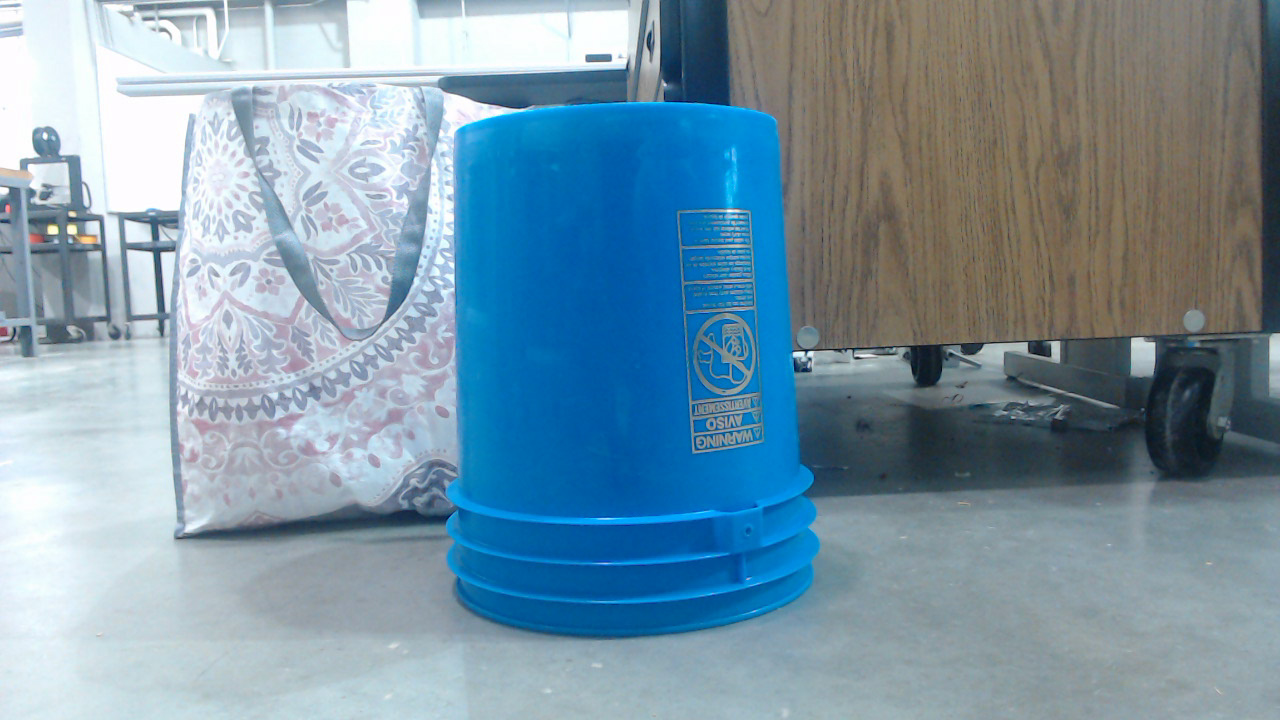blue_bucket: (446, 100, 831, 652)
